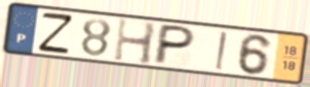6: (237, 32, 272, 77)
8: (79, 16, 114, 59)
H: (111, 16, 160, 67)
I: (213, 29, 229, 72)
P: (150, 22, 198, 66)
Z: (36, 11, 75, 55)
